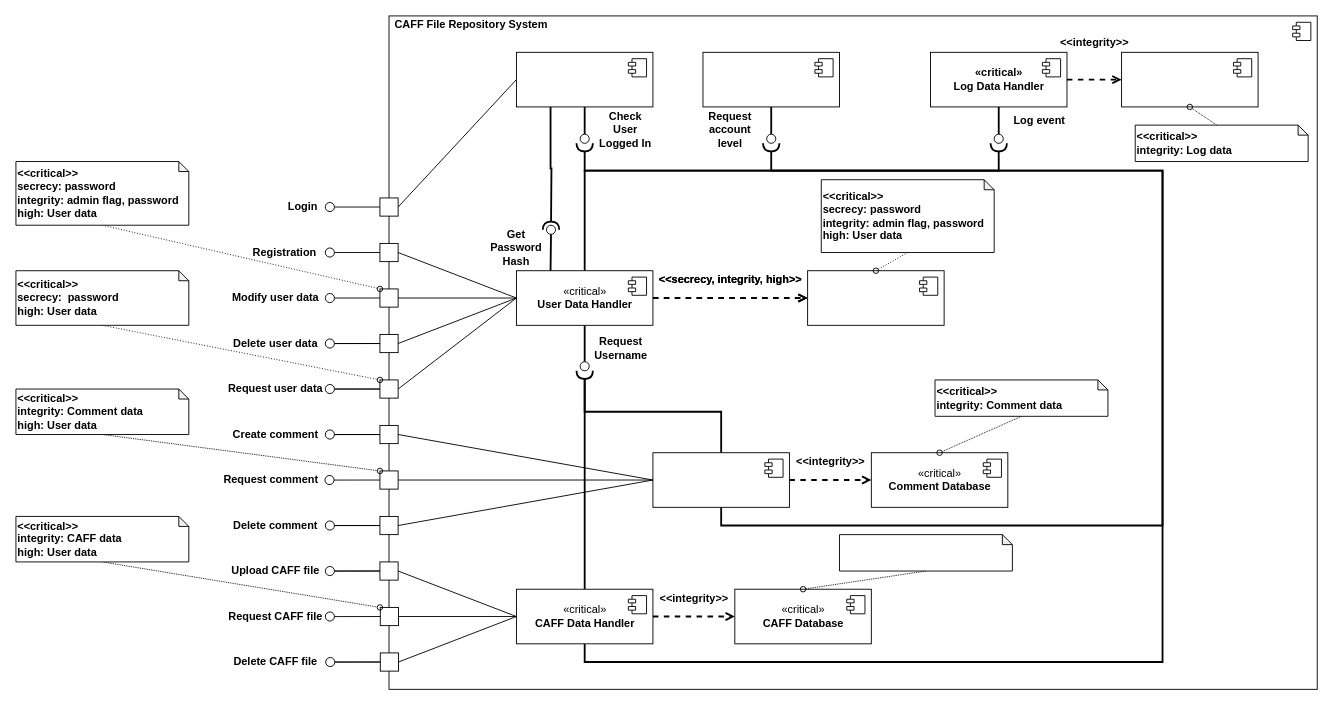
Some shapes in this 1333 by 705 pixel diagram are drawn without their labels. The shapes that lost their labels are listed below. From the top down, each one's centre as x and y in pixels, then its label:
At (x=584, y=79): "«critical» Authenticator".
At (x=770, y=79): "«critical» Access Control".
At (x=1189, y=79): "«critical» Log Database".
At (x=875, y=297): "«critical» User Database".
At (x=720, y=479): "Comment Data Handler".
At (x=925, y=552): "<<critical>> integrity: CAFF data".
